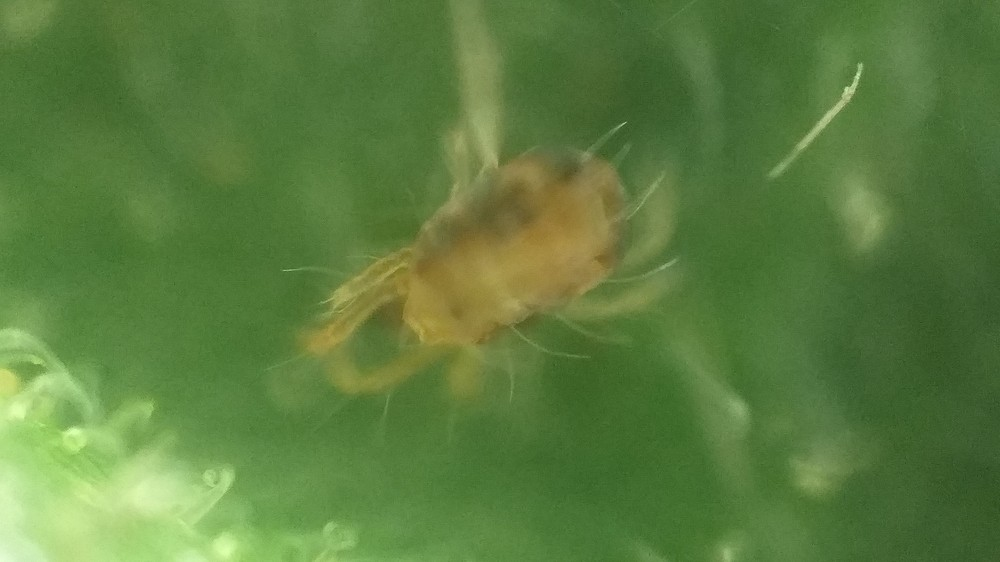Aracnido Rojo: (290, 94, 715, 417)
